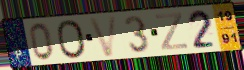0: (27, 21, 56, 62)
2: (188, 8, 219, 52)
3: (124, 15, 152, 54)
O: (55, 18, 89, 60)
V: (87, 14, 120, 59)
Z: (154, 12, 189, 52)
